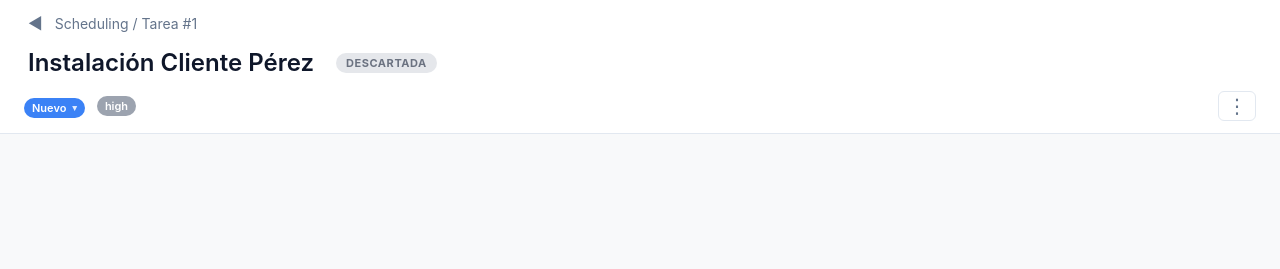
Test: TaskHeader › dismissed task shows "Reabrir tarea" and "Cerrar tarea"
Click the button with test id "kebab-menu".
click(1237, 106)  # box [1218, 91, 1256, 121]
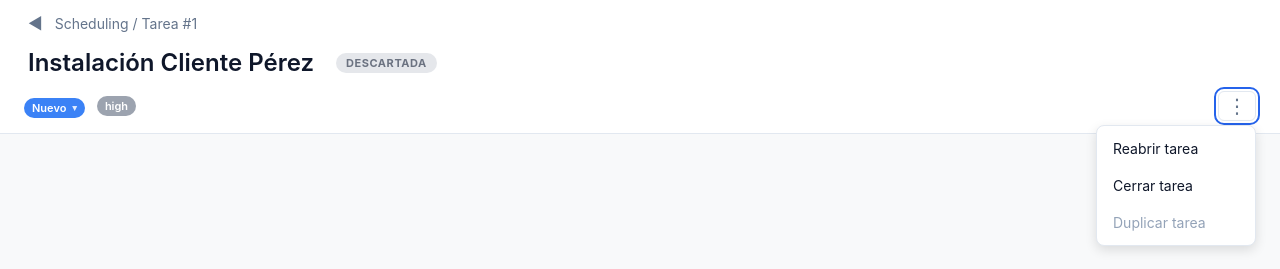
Now the menu item with test id "kebab-reopen" reads "Reabrir tarea", box [1101, 130, 1251, 167]
Now the menu item with test id "kebab-close" reads "Cerrar tarea", box [1101, 167, 1251, 204]
